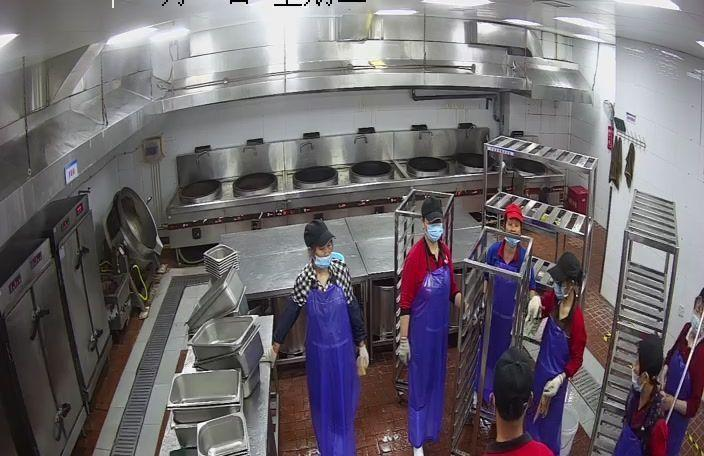mask: (314, 248, 335, 270), (504, 224, 522, 244)
